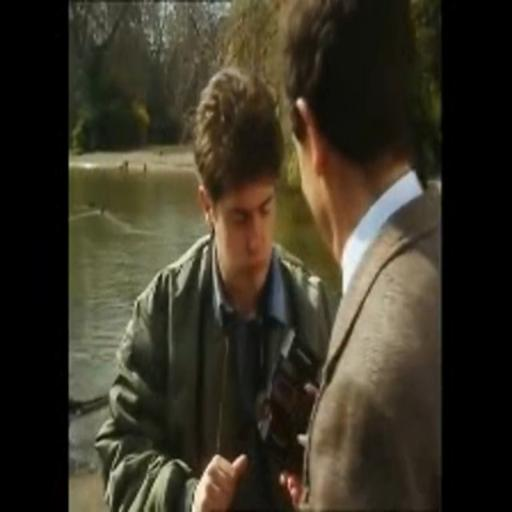nao-violencia: (89, 0, 442, 511)
